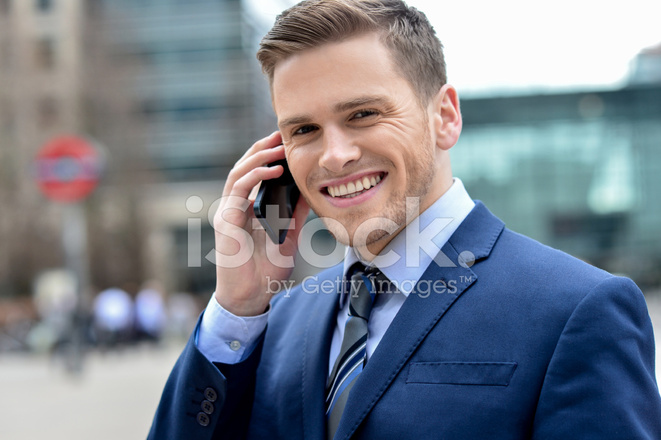phone: (233, 142, 302, 236)
talk: (201, 73, 415, 276)
